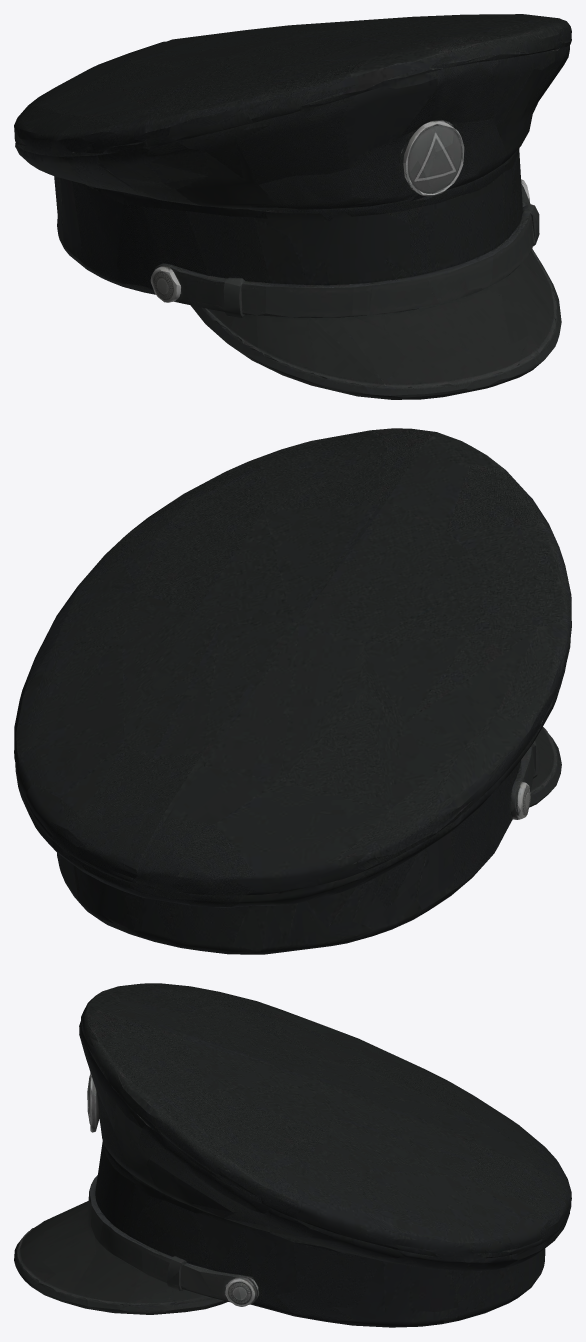
Rendered from warden_hat.glb.
3 renders of one model, top to bottom at view 1: azimuth 30°, elevation 25°; view 2: azimuth 150°, elevation 25°; view 3: azimuth 270°, elevation 25°, orthographic. The views are drawn at different scales.
Visible parts, largest first — view 1: warden_hat; view 2: warden_hat; view 3: warden_hat.
Part boxes in pixels (<box>): warden_hat: <box>14,14,571,399</box>; warden_hat: <box>14,428,571,954</box>; warden_hat: <box>14,983,571,1327</box>.
Bounding box in the file's own units: 0.2894 × 0.1821 × 0.3624.
1 material, 1 textured.
